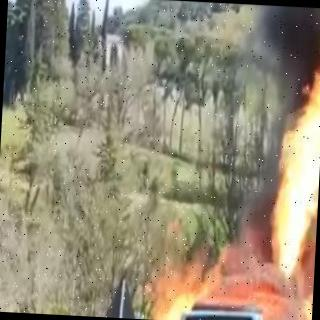smoke: (194, 218, 292, 318), (215, 24, 318, 108)
